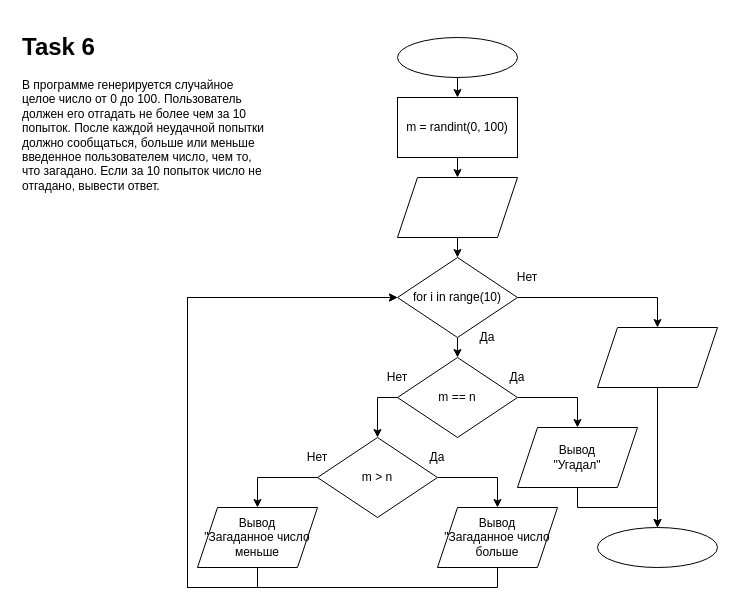
Some shapes in this 735 by 613 pixel diagram are drawn without their labels. Each missing label, with the centre of its shape:
"Ввод n" belongs at [457,207].
"Вывод m" belongs at [657,357].
"Конец" belongs at [657,547].
"Начало" belongs at [457,57].
